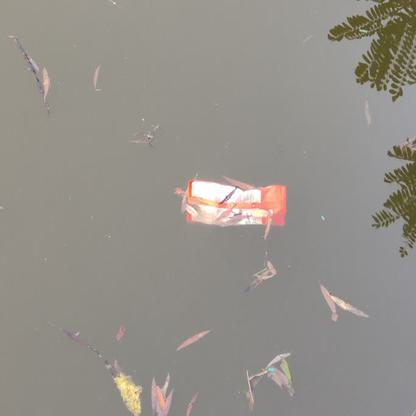plastic bag: (180, 180, 287, 224)
